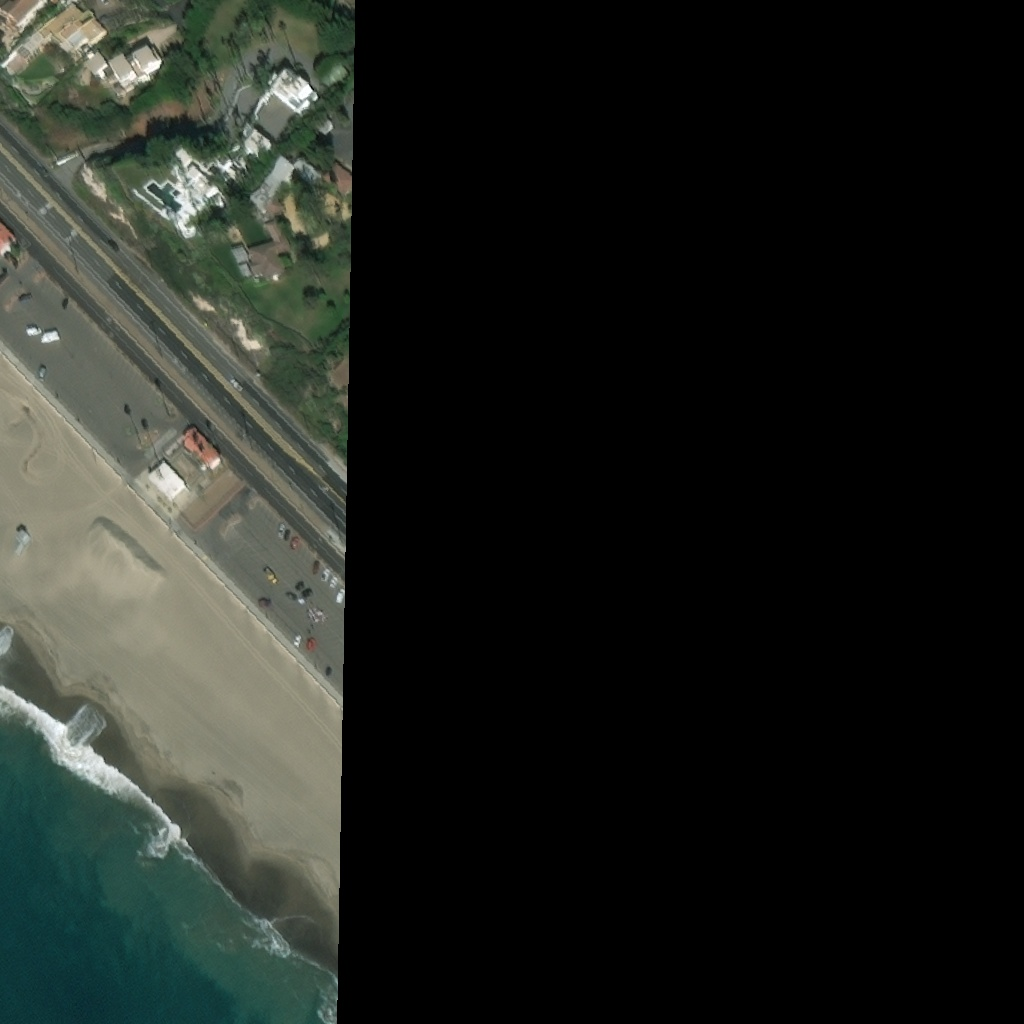0 no-damage: (161, 128, 274, 242), (26, 6, 108, 69), (248, 157, 320, 223), (88, 49, 166, 99), (246, 219, 293, 283), (266, 70, 317, 115), (0, 0, 52, 33), (183, 426, 218, 468), (147, 460, 184, 498), (321, 159, 350, 199), (319, 60, 346, 89), (0, 221, 18, 258), (233, 246, 250, 270), (316, 112, 332, 134), (239, 267, 253, 284)
4 un-classified: (162, 431, 203, 483), (59, 522, 75, 536)
